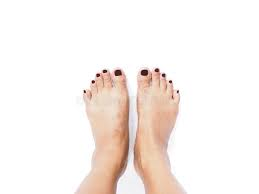Feet: (81, 65, 130, 175), (134, 68, 180, 173)
